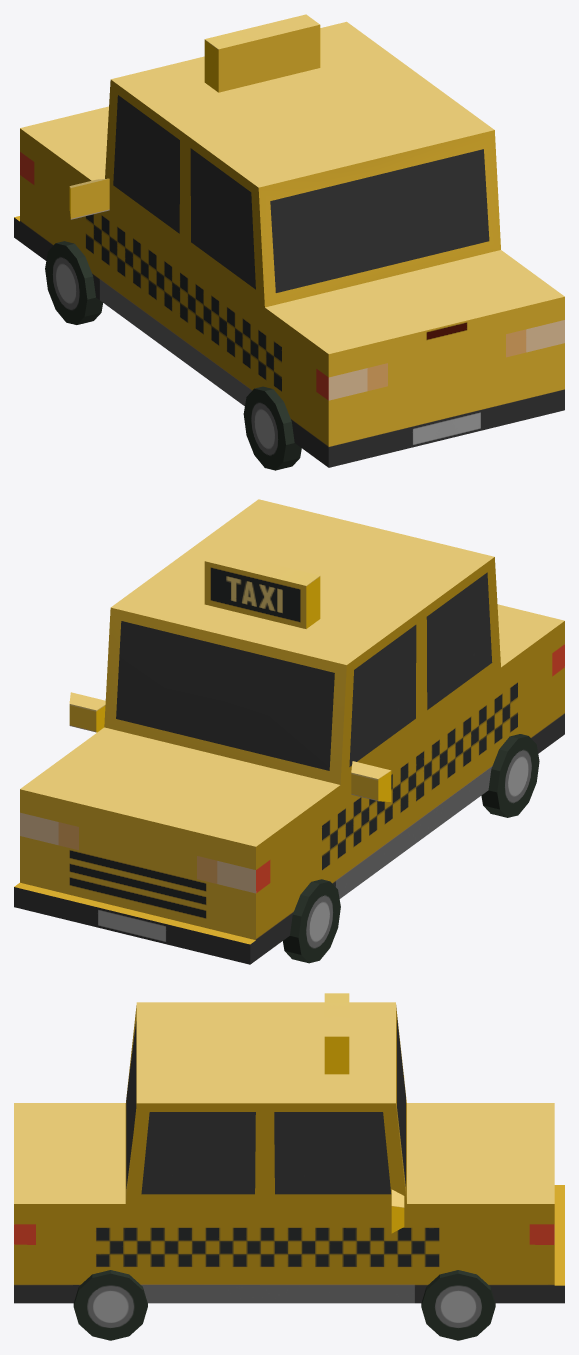
File: taxi_mesh.fbx
3 views of the same model, one above another, from view 1: azimuth 30°, elevation 25°; view 2: azimuth 150°, elevation 25°; view 3: azimuth 270°, elevation 25° (orthographic). The views are drawn at different scales.
Visible parts, largest first — view 1: taxi_mesh; view 2: taxi_mesh; view 3: taxi_mesh.
Boxes of the visible parts, <box> form: taxi_mesh: <box>14,14,564,470</box>; taxi_mesh: <box>14,499,564,964</box>; taxi_mesh: <box>14,993,564,1340</box>.
Bounding box in the file's own units: 3.33 × 3.08 × 5.66.
